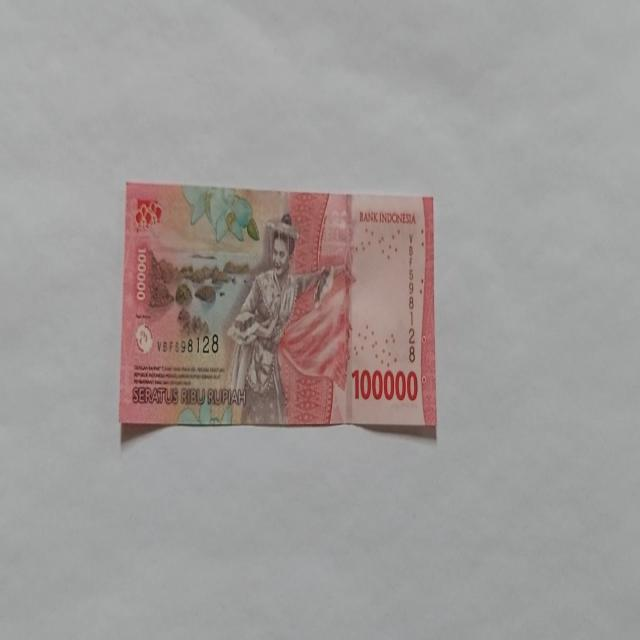seratus ribu rupiah: (119, 181, 438, 434), (224, 212, 348, 425)
